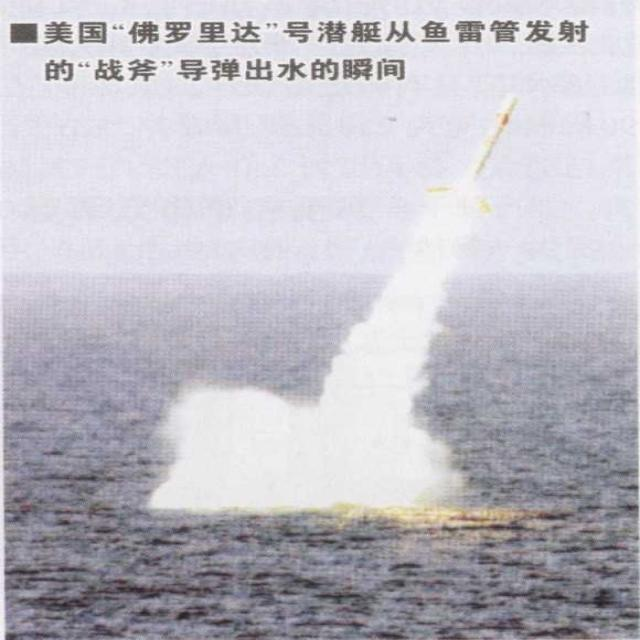missile: (468, 90, 521, 184)
